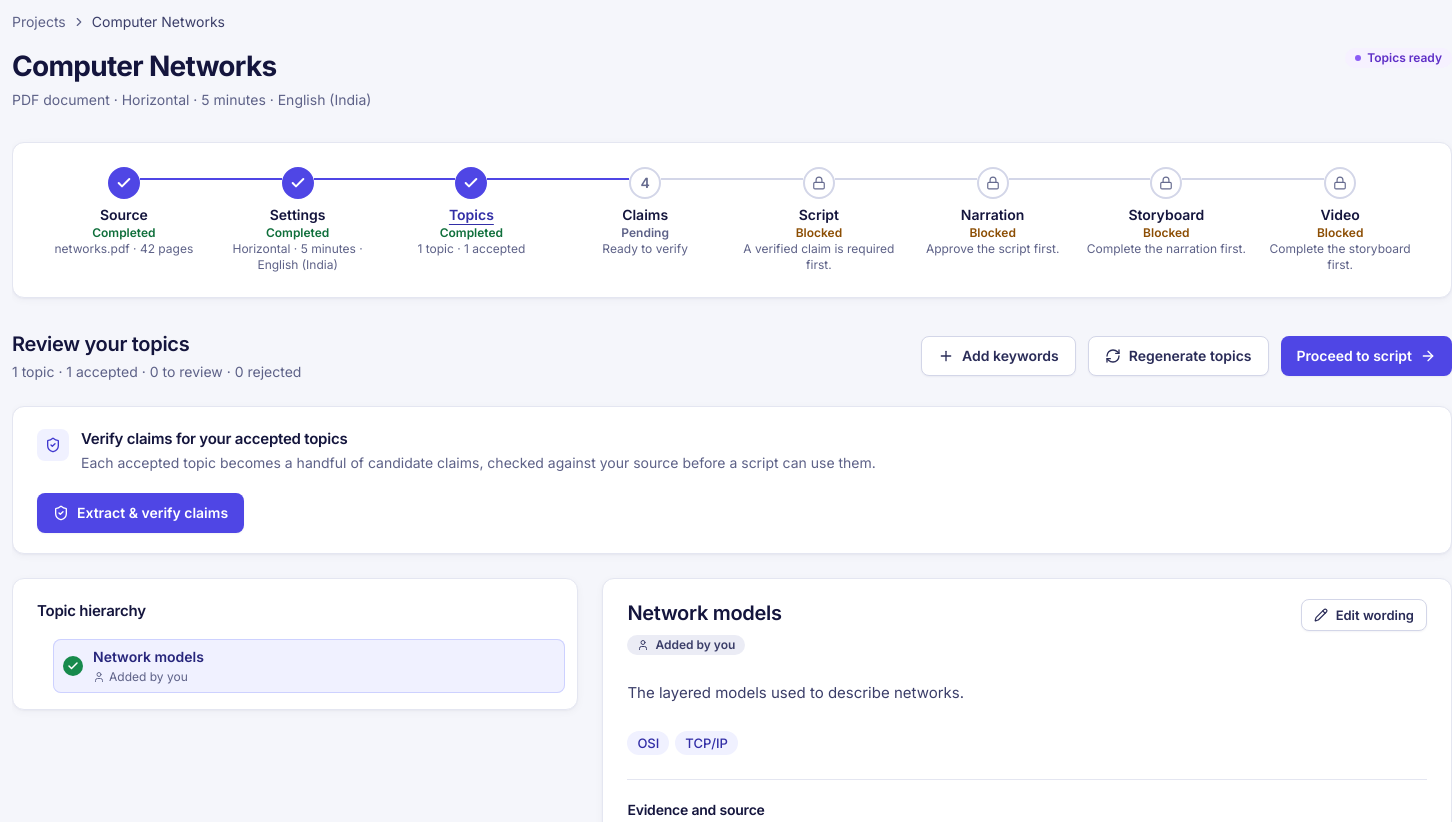
it: Claim extraction › shows an API error without a raw error, and keeps the person able to retry
The image size is (1452, 822).
Click the button "Extract & verify claims". click: (141, 513)
box: [37, 493, 244, 533]
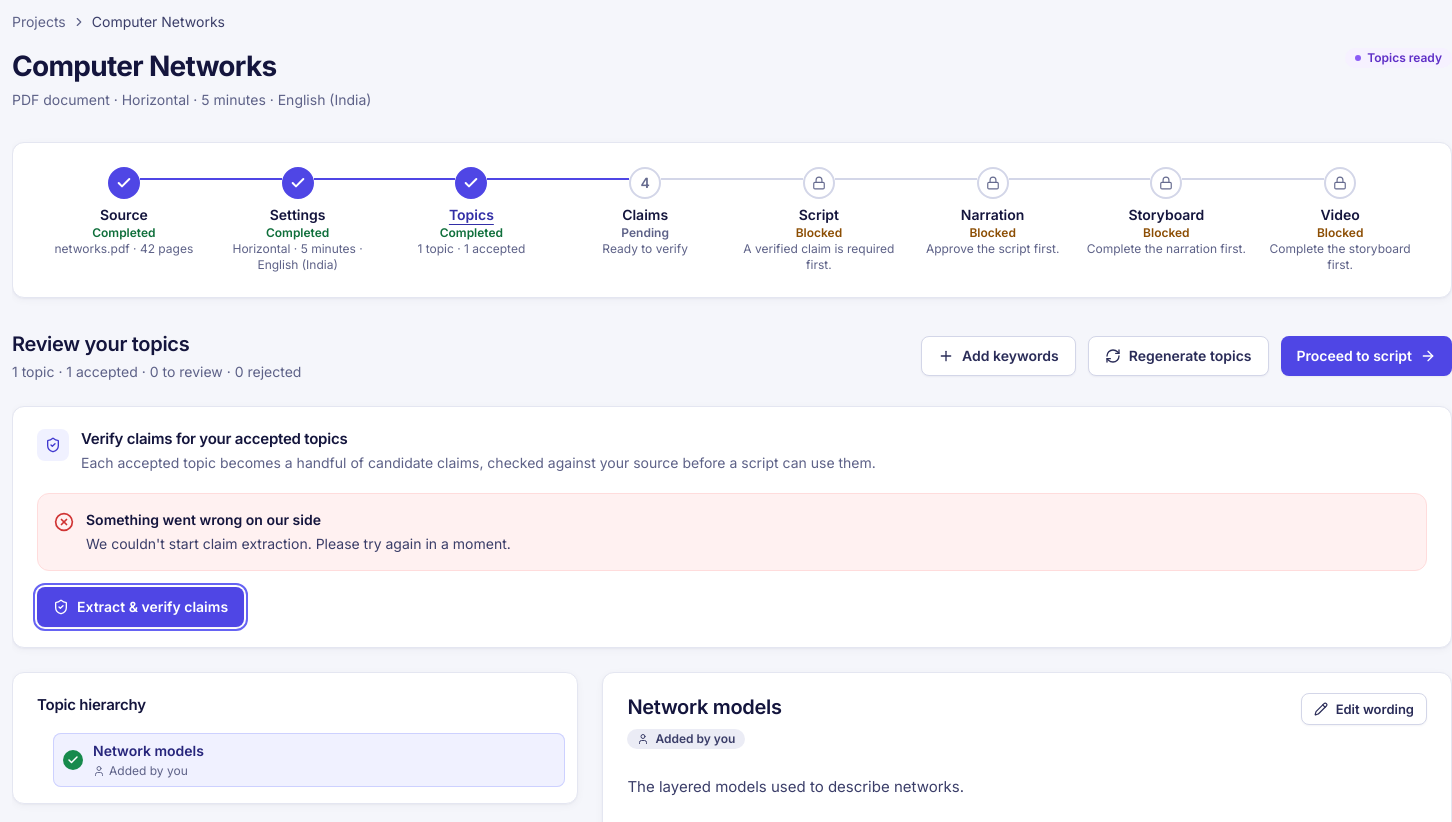
Check: the button "Extract & verify claims" is enabled, box [37, 587, 244, 627]
Check: the text "Something went wrong on our side" is shown, box [86, 511, 321, 528]
